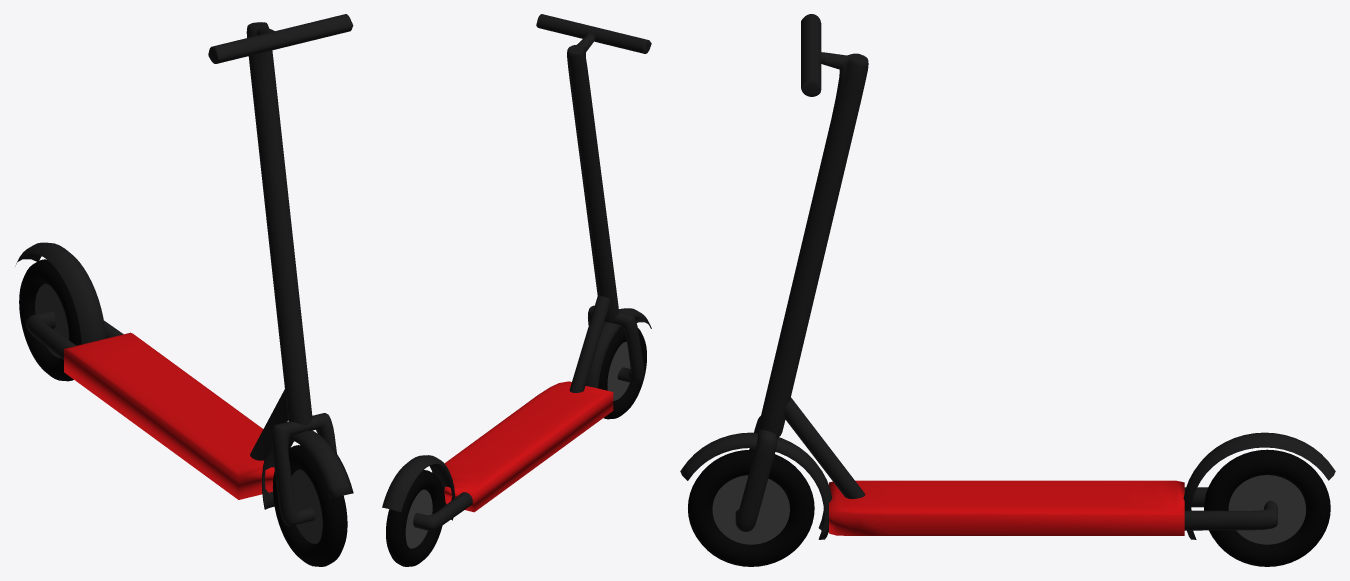
The model's file is escooter.obj.
3 views of the same model, side by side, from view 1: azimuth 30°, elevation 25°; view 2: azimuth 150°, elevation 25°; view 3: azimuth 270°, elevation 25° (orthographic). The views are drawn at different scales.
Visible parts, largest first — view 1: Cube, Cylinder, Torus.001, Torus, Torus.003, Cylinder.004, Torus.002, Cylinder.001, Cylinder.005, Cylinder.003, Cylinder.002; view 2: Cube, Cylinder, Torus, Torus.003, Cylinder.002, Torus.001, Cylinder.004, Torus.002, Cylinder.005, Cylinder.003, Cylinder.001; view 3: Cube, Cylinder, Torus, Torus.001, Cylinder.003, Cylinder.001, Torus.003, Torus.002, Cylinder.005, Cylinder.004, Cylinder.002.
Part boxes in pixels (x1,y1,x2,y2): Cube: [64, 332, 274, 499]; Cylinder: [208, 14, 353, 425]; Torus.001: [272, 445, 347, 566]; Torus: [19, 259, 81, 381]; Torus.003: [15, 242, 105, 344]; Cylinder.004: [271, 413, 336, 526]; Torus.002: [262, 430, 353, 509]; Cylinder.001: [291, 469, 322, 543]; Cylinder.005: [26, 310, 123, 359]; Cylinder.003: [35, 284, 68, 357]; Cylinder.002: [250, 389, 288, 460]; Cube: [432, 381, 613, 512]; Cylinder: [536, 14, 651, 322]; Torus: [386, 470, 445, 566]; Torus.003: [382, 455, 454, 520]; Cylinder.002: [569, 295, 610, 392]; Torus.001: [598, 326, 646, 419]; Cylinder.004: [588, 305, 644, 383]; Torus.002: [585, 308, 651, 388]; Cylinder.005: [413, 492, 472, 530]; Cylinder.003: [405, 489, 432, 548]; Cylinder.001: [607, 341, 630, 400]; Cube: [829, 480, 1184, 535]; Cylinder: [758, 14, 868, 438]; Torus: [1204, 449, 1330, 566]; Torus.001: [688, 449, 814, 566]; Cylinder.003: [1228, 475, 1305, 544]; Cylinder.001: [712, 475, 789, 544]; Torus.003: [1183, 432, 1335, 539]; Torus.002: [680, 432, 832, 539]; Cylinder.005: [1184, 487, 1277, 530]; Cylinder.004: [735, 416, 777, 531]; Cylinder.002: [784, 397, 865, 498].
Size of the model in its own units: 0.713 by 2.56 by 2.93.
